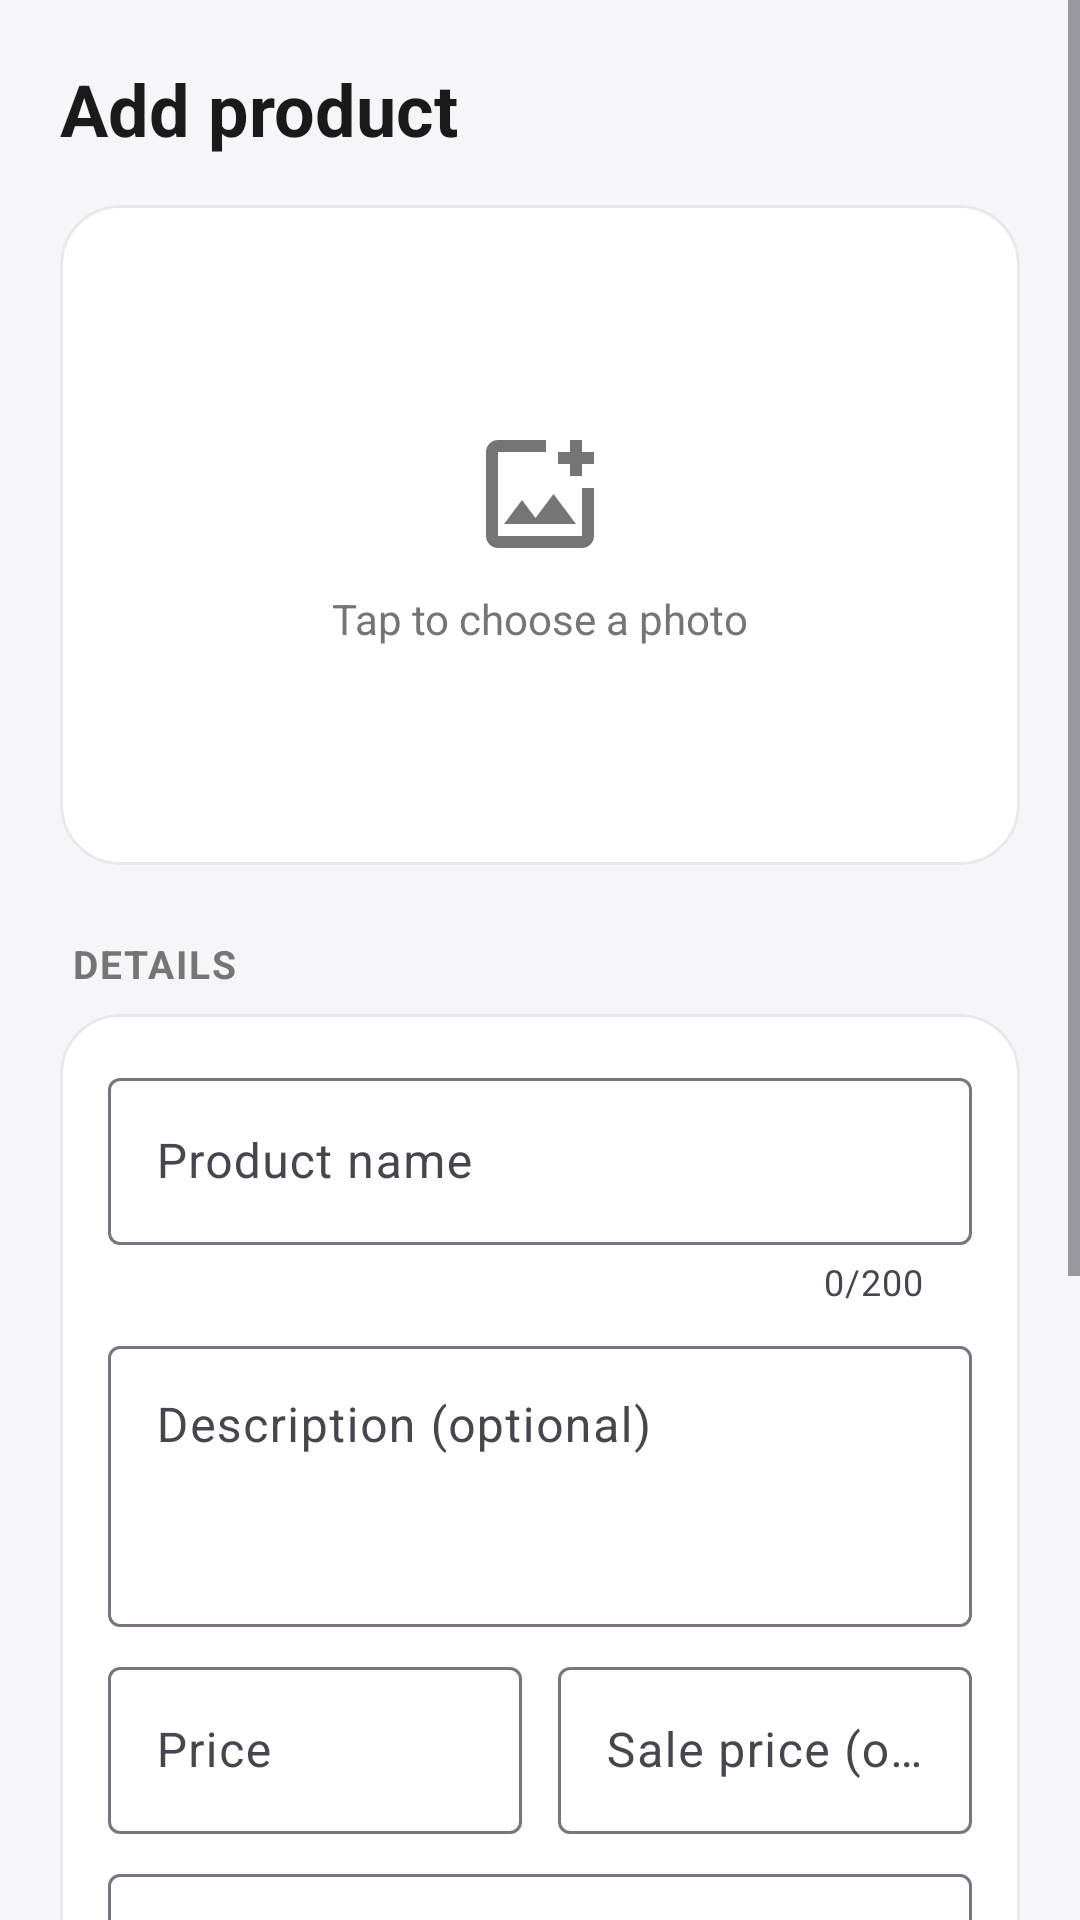

Point at icon controls on the screen. Image size 1080px×1920px, points as (x=x, y=y).
add photo: (x=540, y=494)
